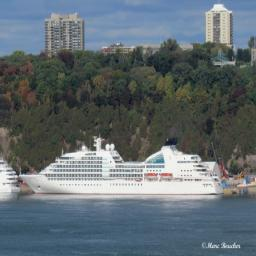cruises: (20, 135, 229, 198)
